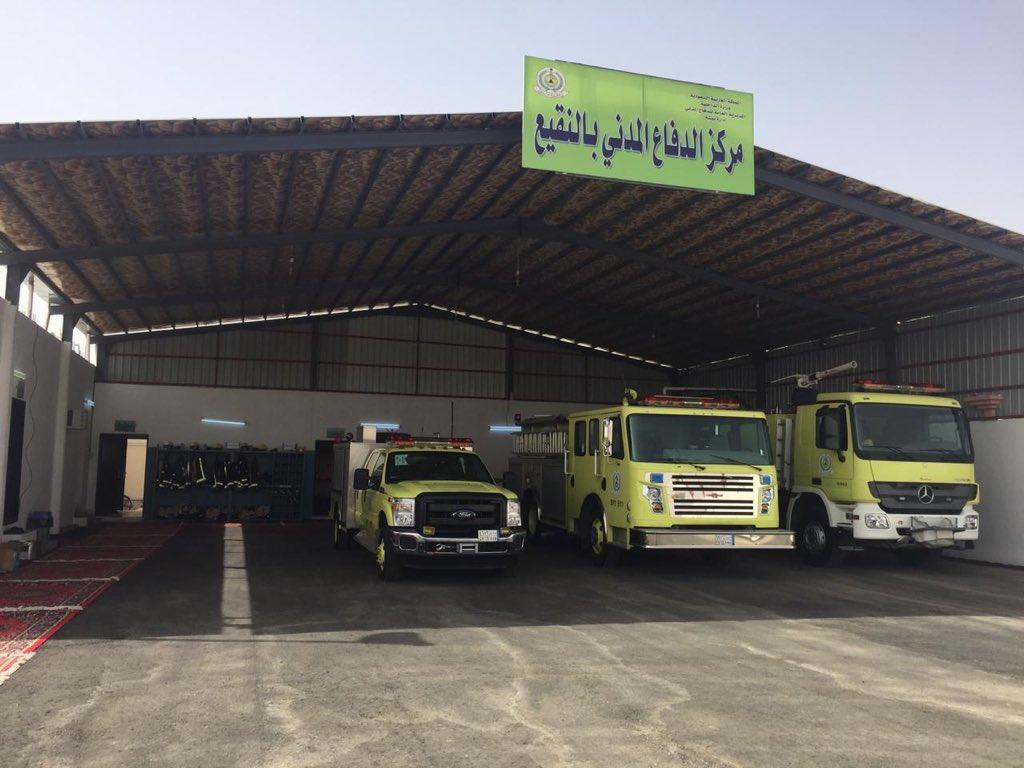firetruck_off: (507, 395, 794, 564), (798, 382, 988, 566), (352, 435, 525, 576)
